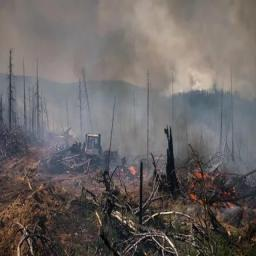Low smoke: (0, 0, 255, 189)
